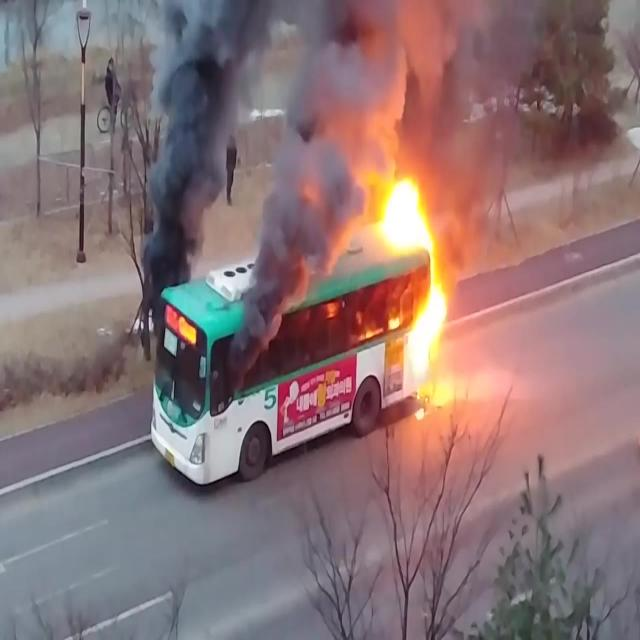fire: (386, 189, 449, 399)
smoke: (247, 0, 400, 377), (154, 0, 235, 380)
